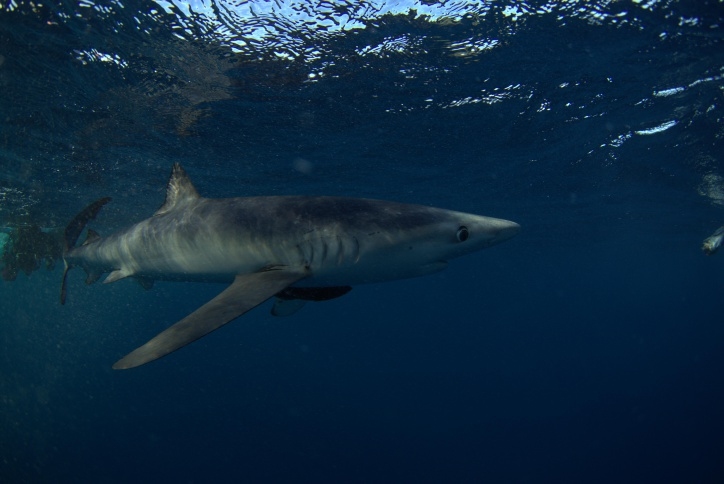Azul: (12, 148, 552, 387)
